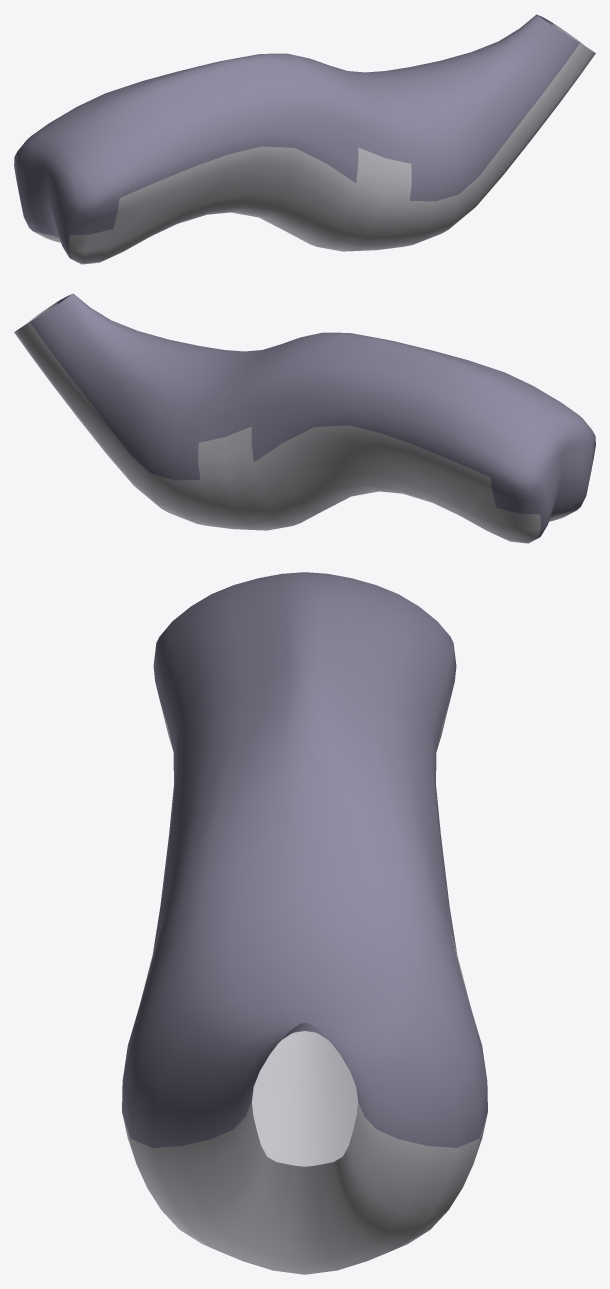
The picture shows the model from 3 angles, top to bottom: view 1: azimuth 30°, elevation 25°; view 2: azimuth 150°, elevation 25°; view 3: azimuth 270°, elevation 25°; orthographic projection. The views are drawn at different scales.
Visible parts, largest first — view 1: Base#2; view 2: Base#2; view 3: Base#2.
Part boxes in pixels (bbox=[...]): Base#2: bbox=[14, 14, 595, 264]; Base#2: bbox=[14, 293, 595, 543]; Base#2: bbox=[122, 572, 487, 1274].
Bounding box in the file's own units: 4.13 × 1.57 × 1.19.
